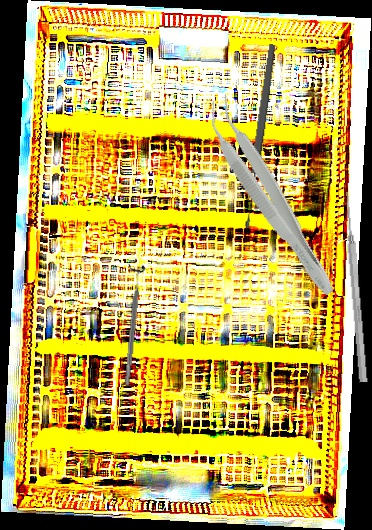Fixation Ring: (117, 263, 147, 387)
Pusher: (341, 191, 370, 383)
Surgical Spoon: (241, 43, 278, 229)
Tissue Forceps: (195, 92, 349, 302)
